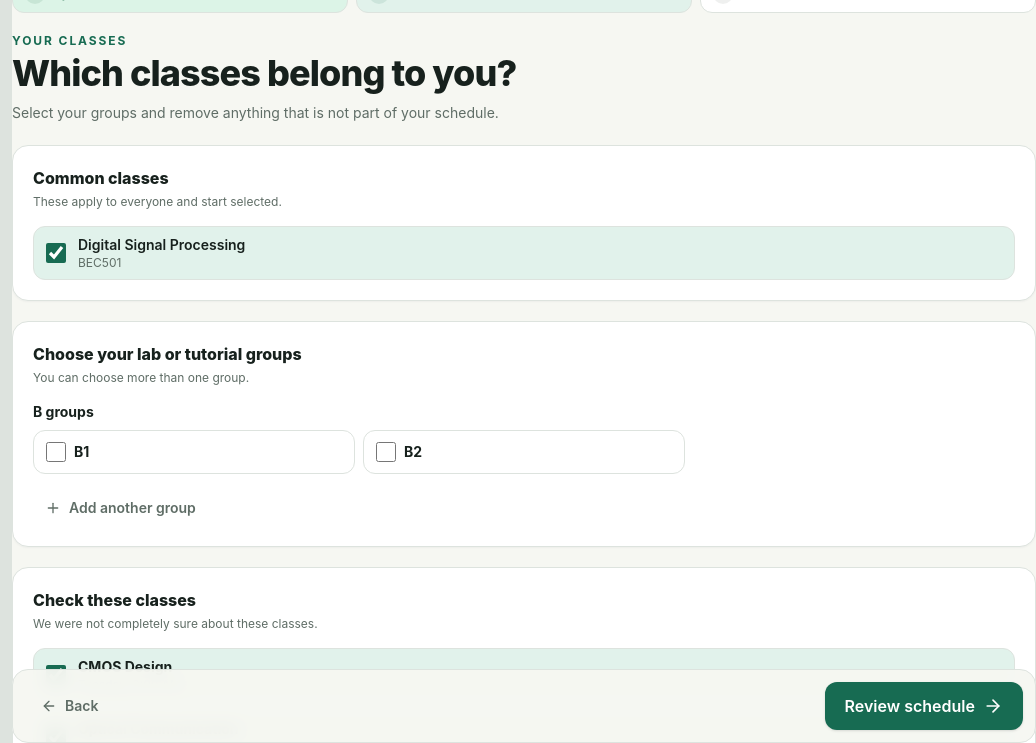
simplified timetable confirmation › selects common classes by default and updates the count immediately
Click the checkbox labelled "Digital Signal Processing BEC501".
click(56, 253)  # box [46, 243, 66, 263]
(page scrolled)
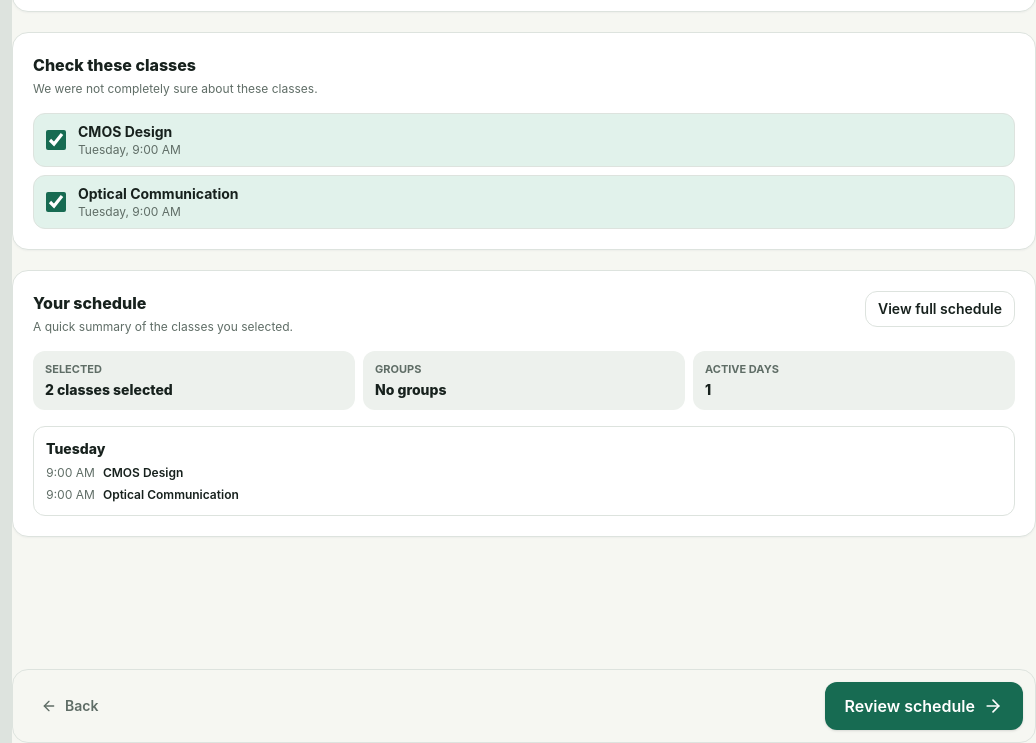
Expected: the text "2 classes selected" is shown, [45, 380, 173, 398]
